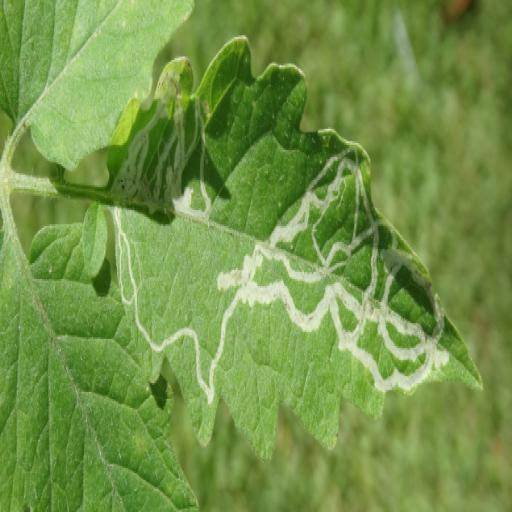disease_tomato: (102, 30, 486, 462)
